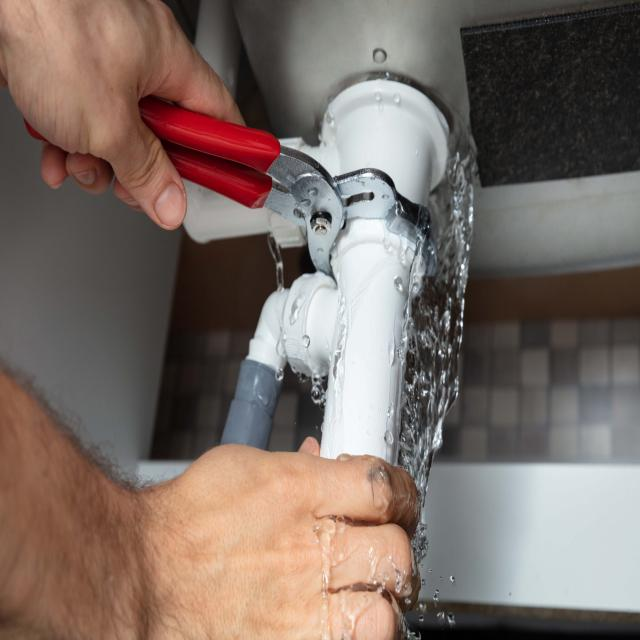leak: (399, 120, 478, 507)
